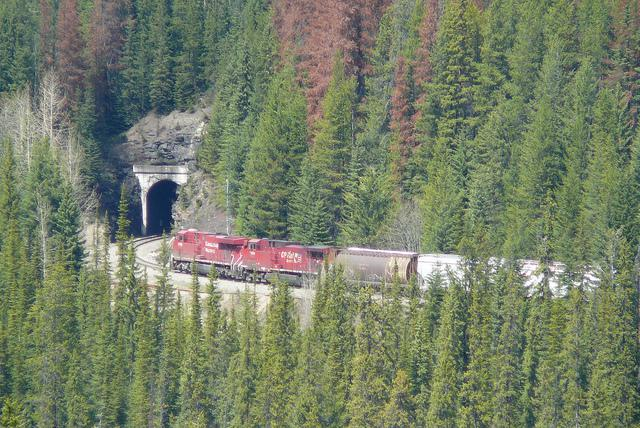Train: (168, 227, 597, 300)
